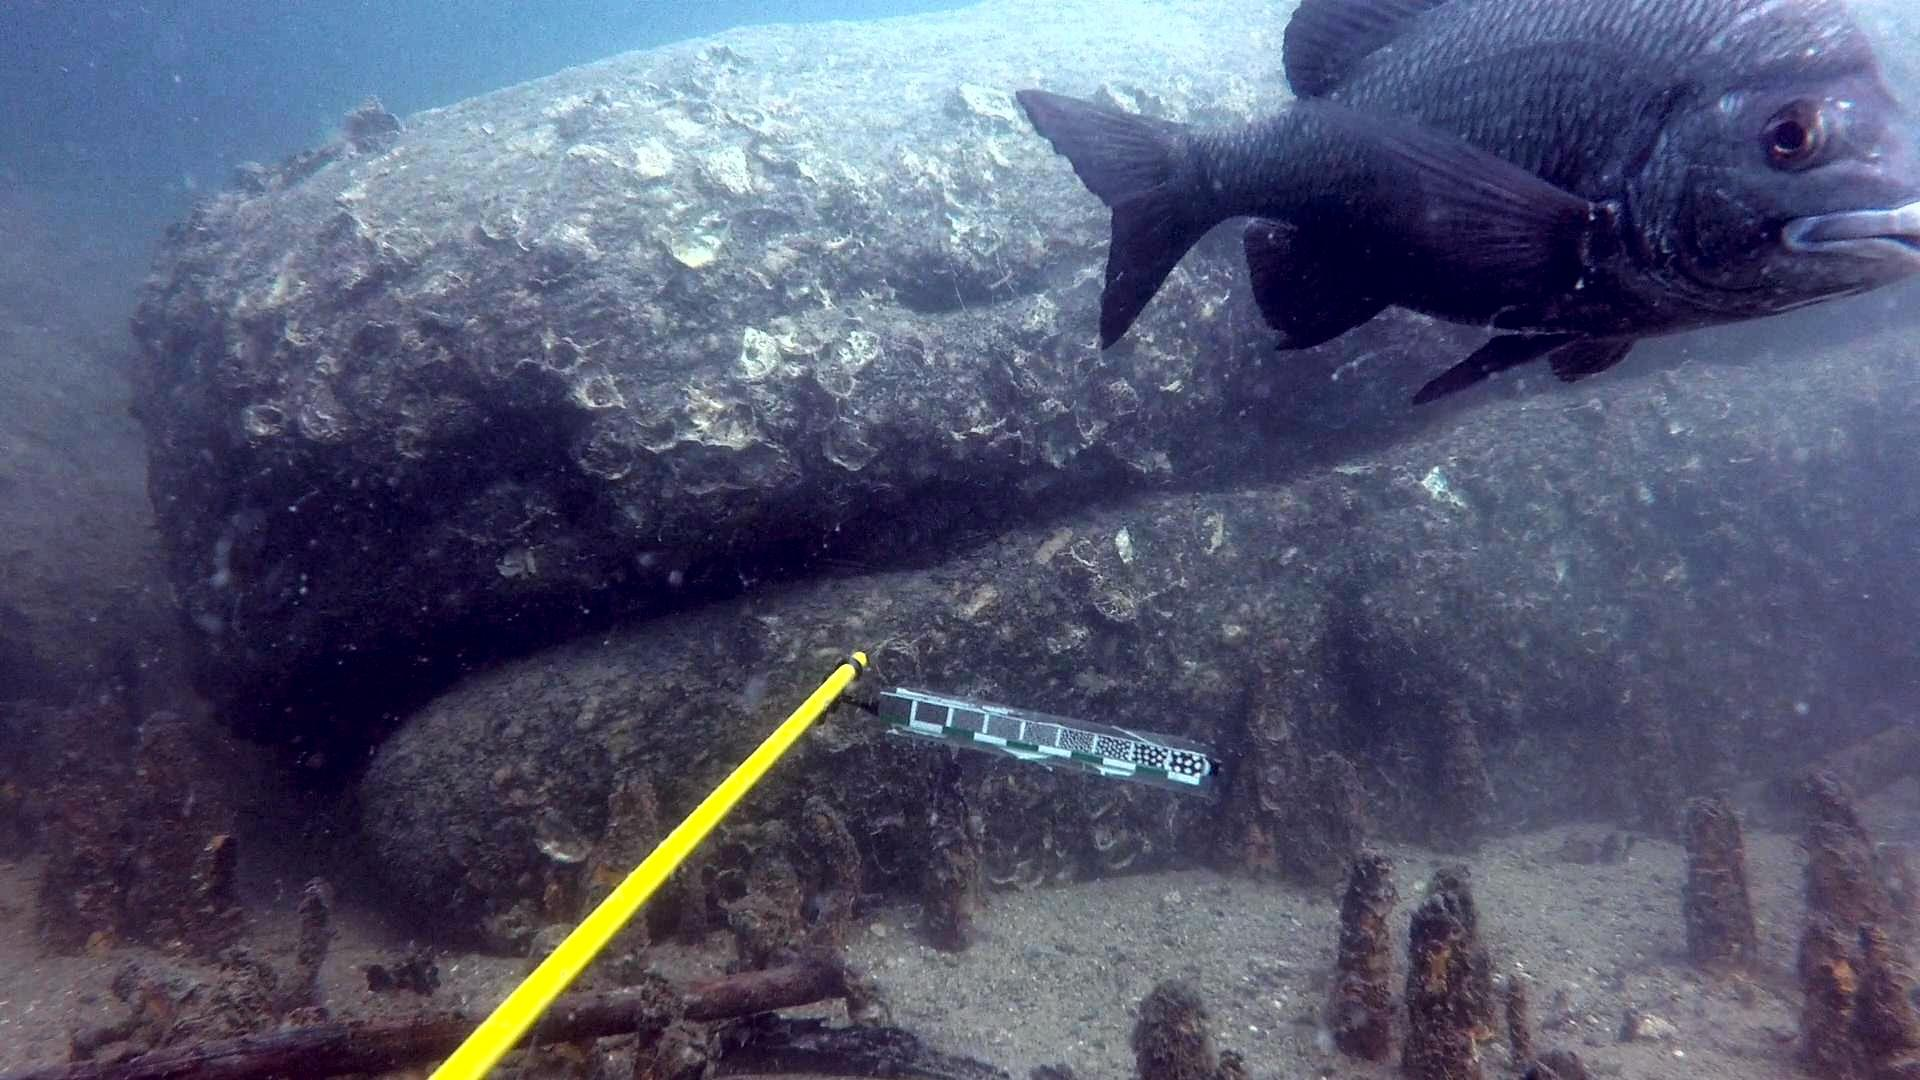acanthopagrus palmaris: (998, 5, 1920, 409)
